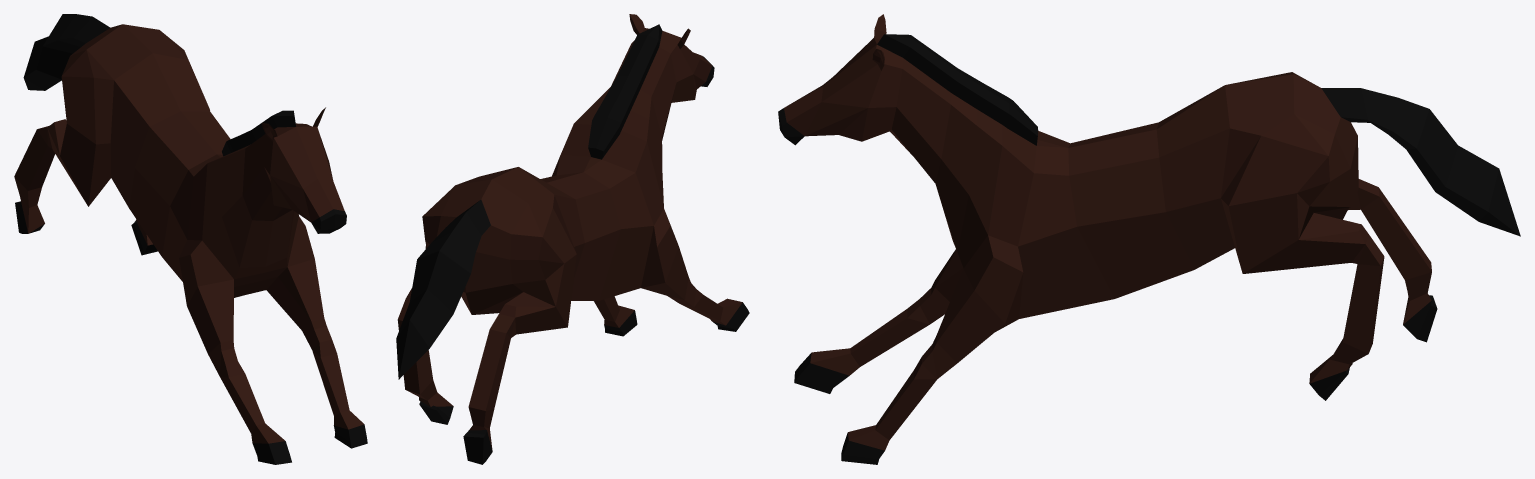
File: Horse_000021.obj
3 views of the same model, side by side, from view 1: azimuth 30°, elevation 25°; view 2: azimuth 150°, elevation 25°; view 3: azimuth 270°, elevation 25° (orthographic). The views are drawn at different scales.
Parts seen in each view (by area): view 1: Horse_Cylinder; view 2: Horse_Cylinder; view 3: Horse_Cylinder.
Boxes of the visible parts, x1,y1,x2,y2 form: Horse_Cylinder: (14, 14, 367, 464); Horse_Cylinder: (396, 14, 749, 464); Horse_Cylinder: (778, 14, 1520, 464).
Size of the model in its own units: 2.55 by 6.2 by 10.46.
